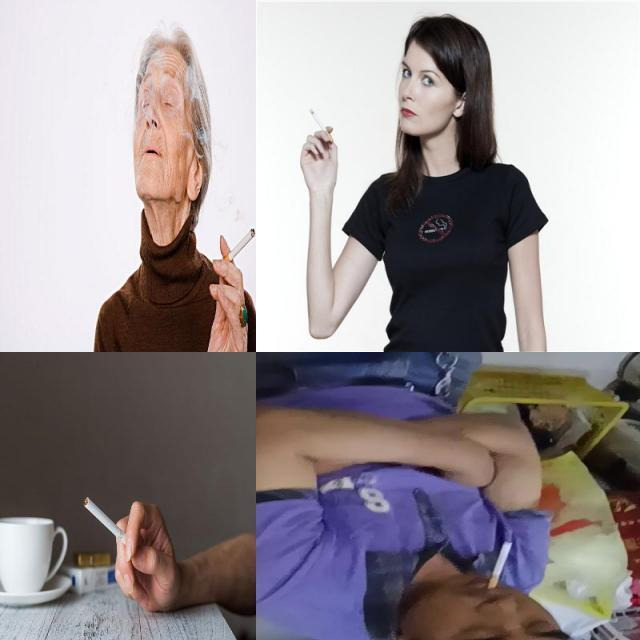cigarette: (82, 494, 135, 547), (218, 228, 256, 264), (308, 104, 336, 150), (488, 542, 514, 590)
